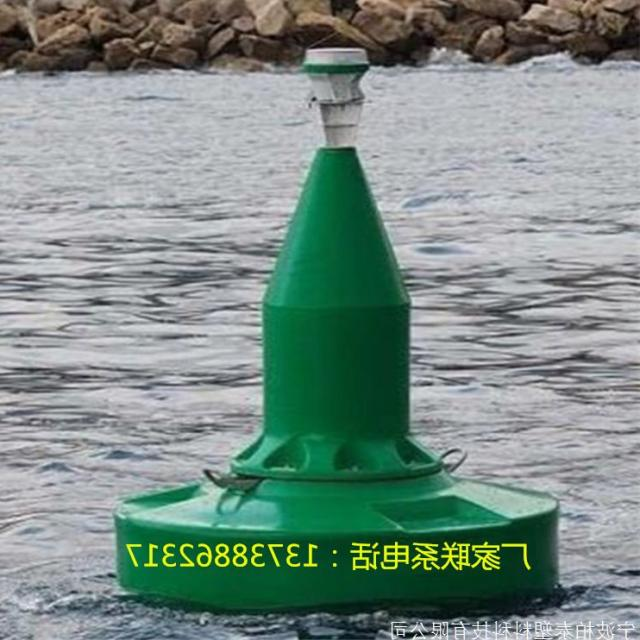buoy: (116, 38, 567, 611)
